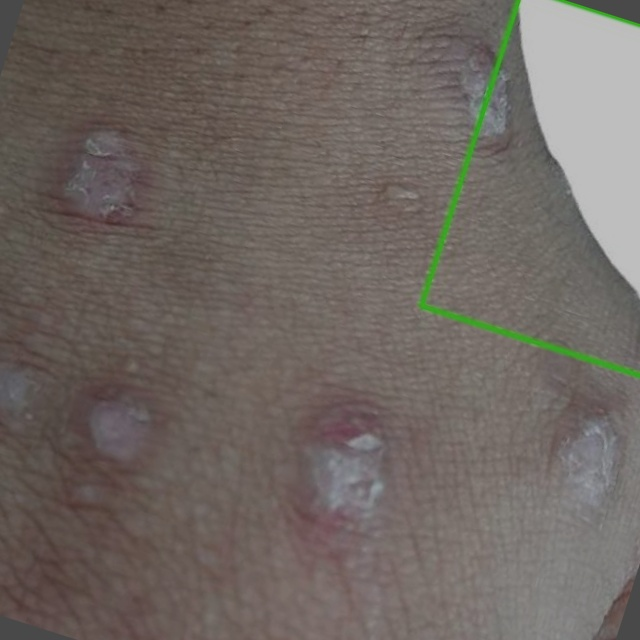Contact Dermatitis: (421, 0, 639, 375)
